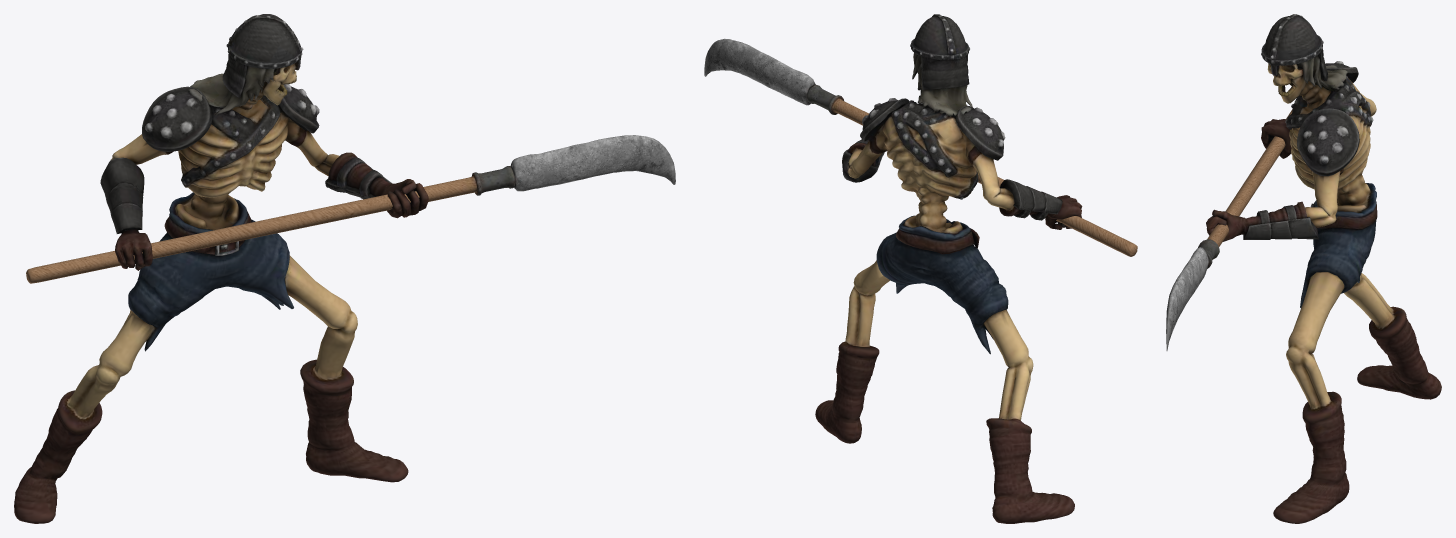
The model's file is MZ4250 - Skeleton Spearman_glaive.glb.
3 views of the same model, side by side, from view 1: azimuth 30°, elevation 25°; view 2: azimuth 150°, elevation 25°; view 3: azimuth 270°, elevation 25° (orthographic). The views are drawn at different scales.
Visible parts, largest first — view 1: Skeleton Spearman_no weap.001; view 2: Skeleton Spearman_no weap.001; view 3: Skeleton Spearman_no weap.001.
Part boxes in pixels (x1,y1,x2,y2): Skeleton Spearman_no weap.001: (14,14,675,523); Skeleton Spearman_no weap.001: (704,14,1137,523); Skeleton Spearman_no weap.001: (1166,14,1441,523).
Size of the model in its own units: 39.73 by 32.65 by 18.22.
Materials: 2 (2 with a texture image).
